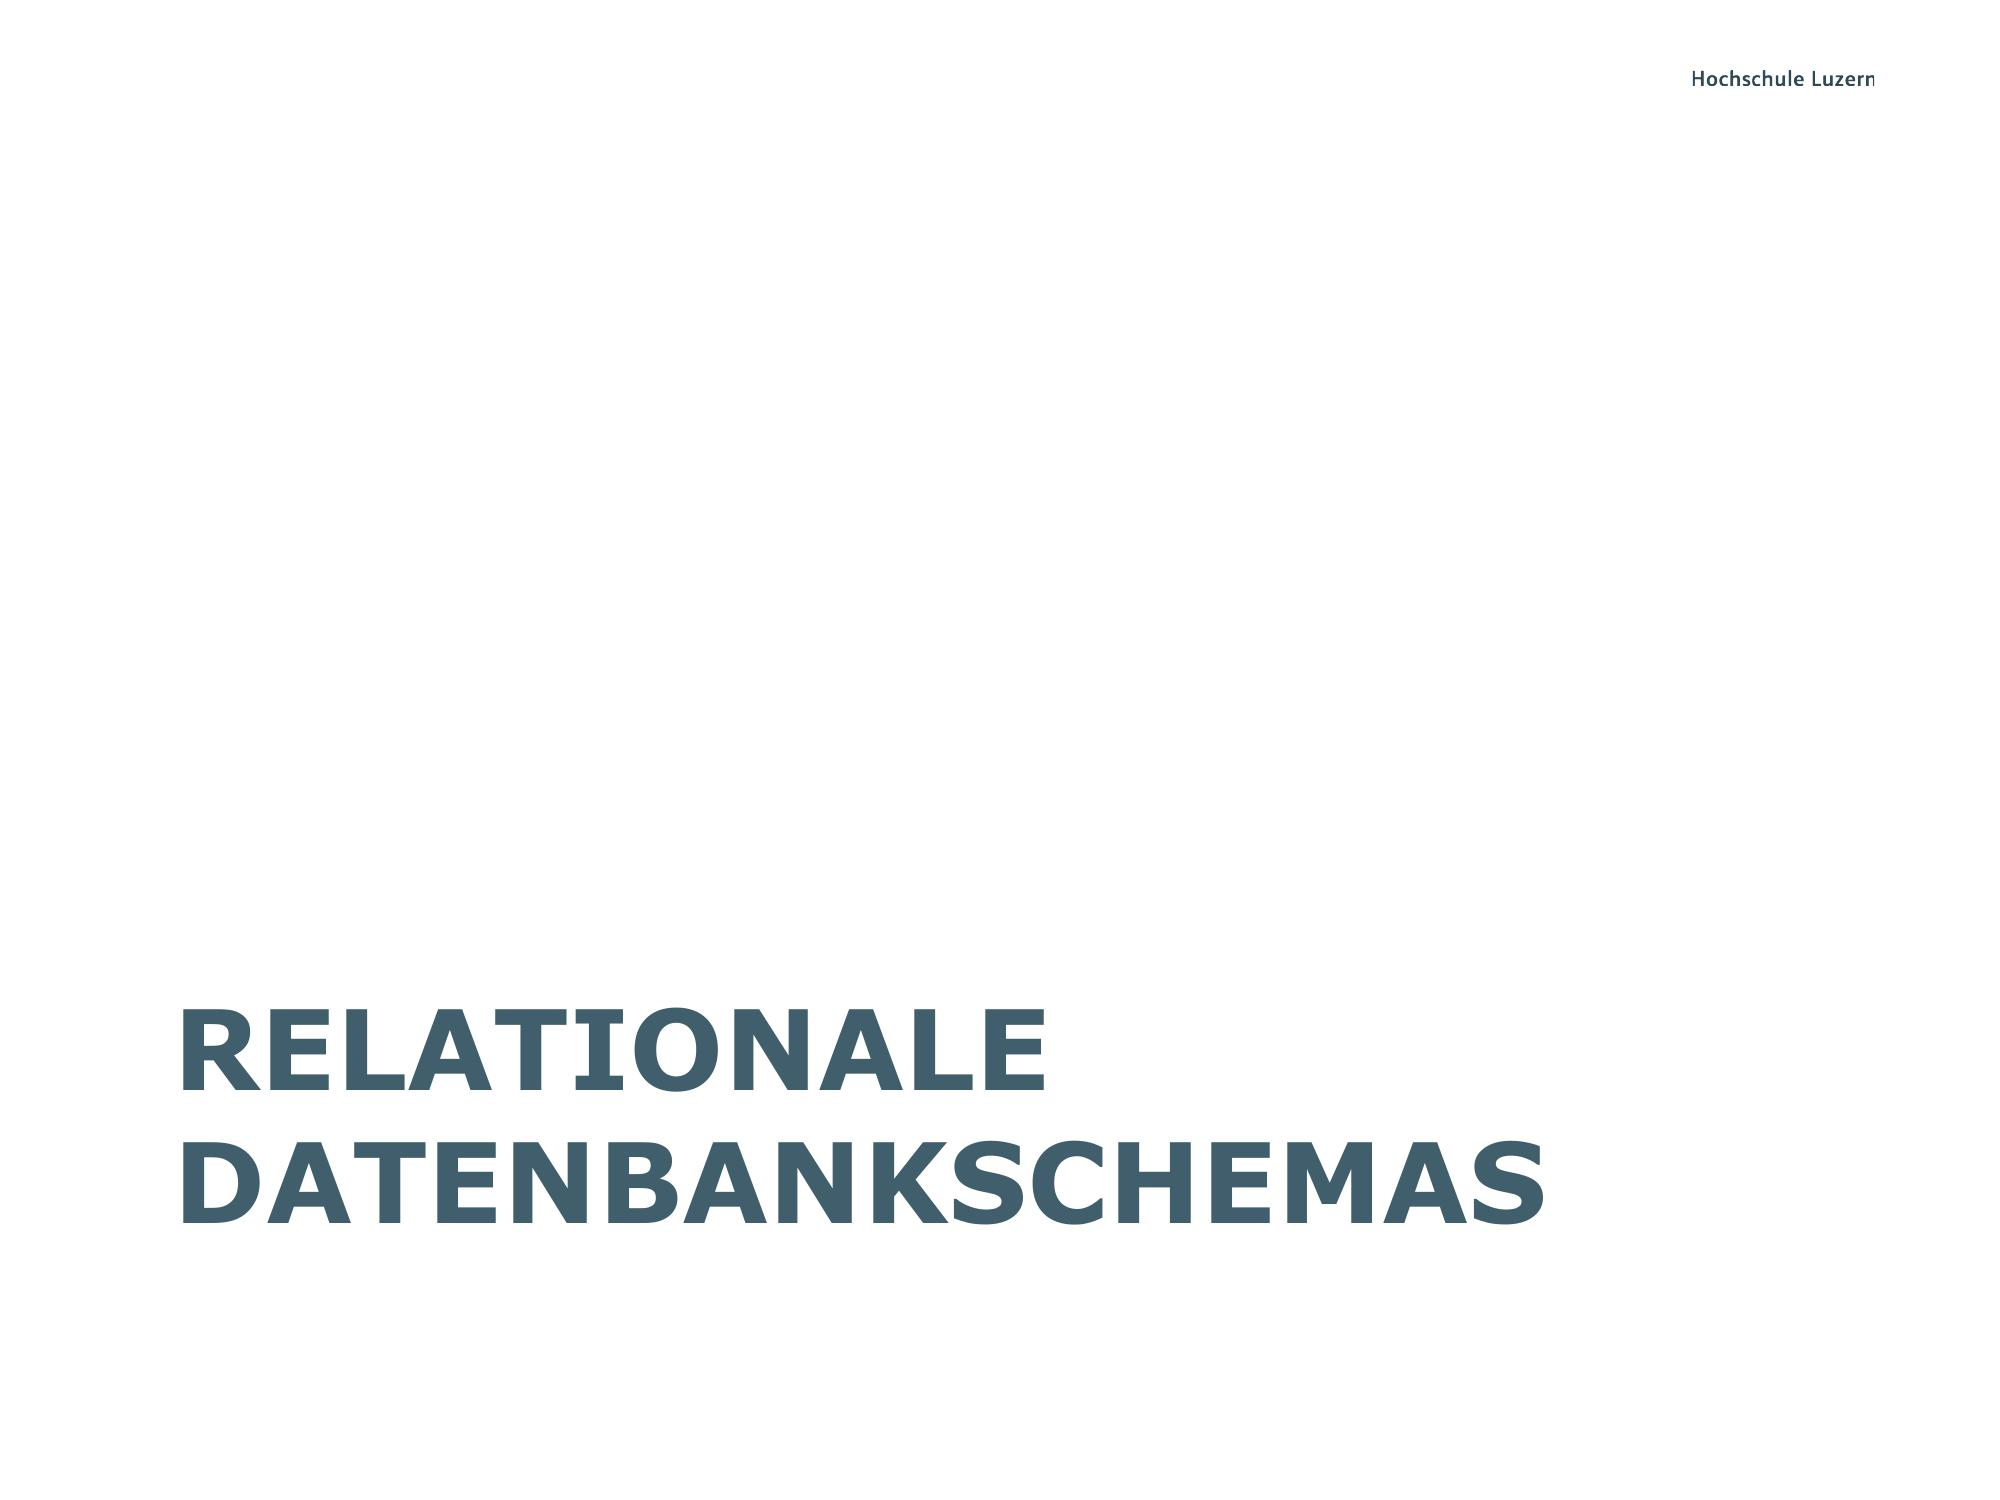Title: (161, 977, 1569, 1243)
